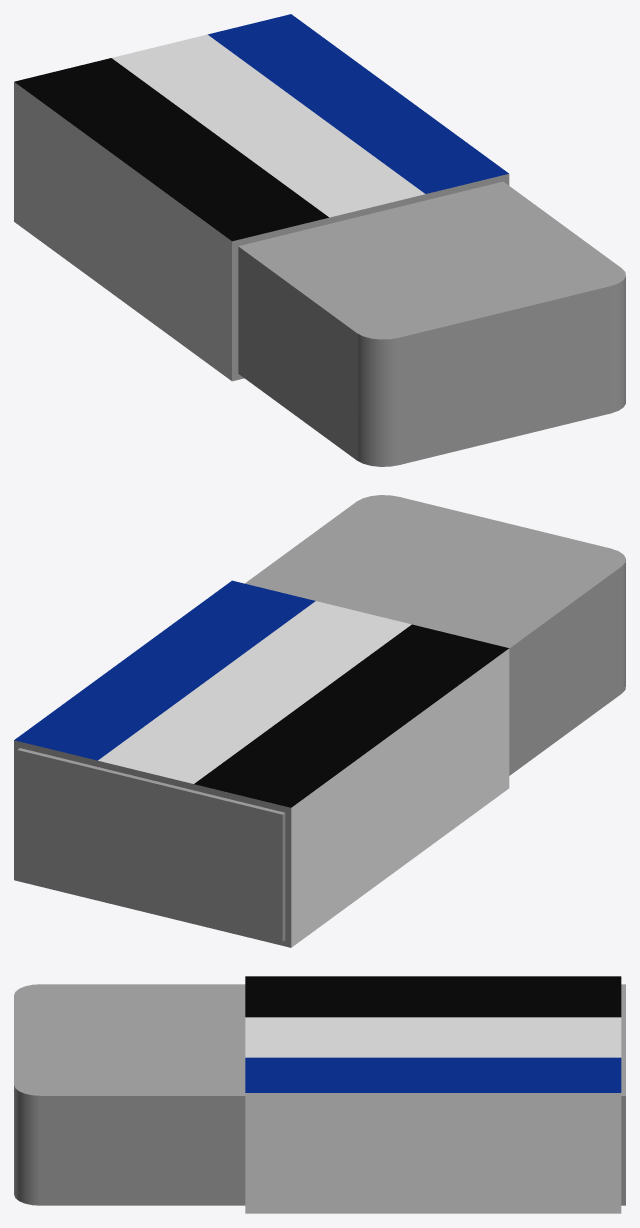
File: kesigomutaoreterudake.fbx
3 renders of one model, top to bottom at view 1: azimuth 30°, elevation 25°; view 2: azimuth 150°, elevation 25°; view 3: azimuth 270°, elevation 25°, orthographic. The views are drawn at different scales.
Parts seen in each view (by area): view 1: pCube3; view 2: pCube3; view 3: pCube3.
Boxes of the visible parts, x1,y1,x2,y2 form: pCube3: [14, 14, 625, 466]; pCube3: [14, 495, 625, 947]; pCube3: [14, 976, 625, 1213].
Bounding box in the file's own units: 2.1 × 1.06 × 4.66.
